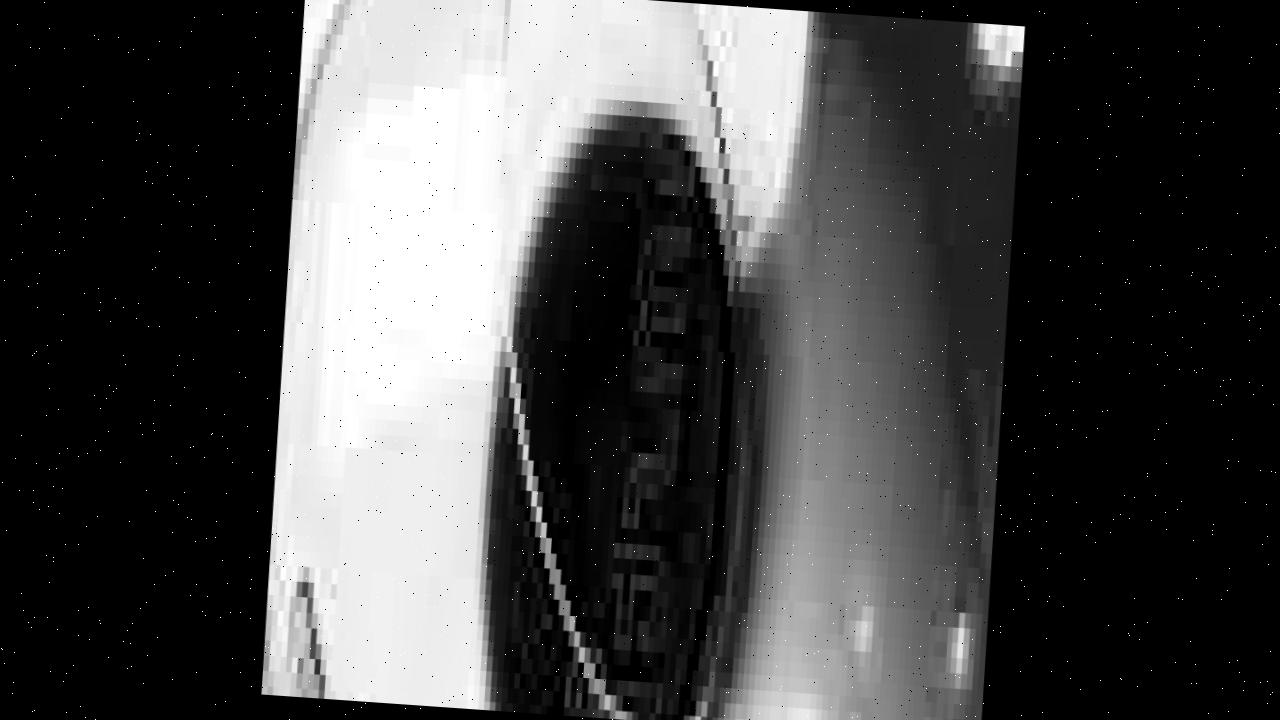drinks Stains: (734, 9, 1028, 720)
